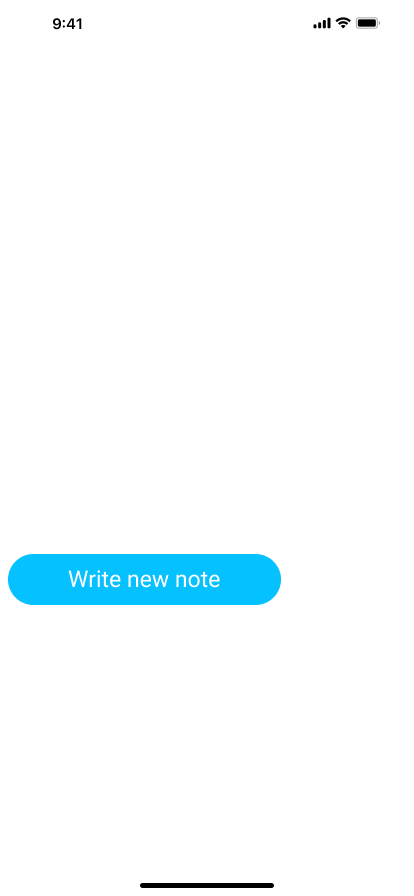Buttons: (8, 554, 281, 605)
Home Indicator: (0, 862, 414, 896)
Status Bar: (0, 0, 414, 44)
